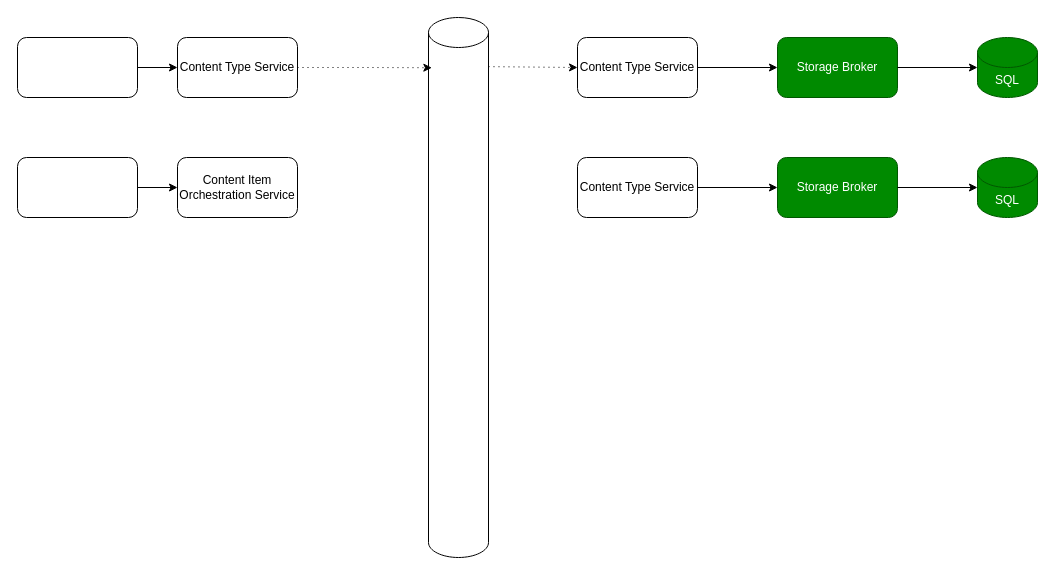
Image size: 1055x575. Some labels were removed from this diagram. Here are the shapes that lost their labels. From the top down, the centre of each, then its label:
At pixel 77 67: "Content Type Controller".
At pixel 77 187: "Content Item Controller".
At pixel 458 287: "Substrate".
